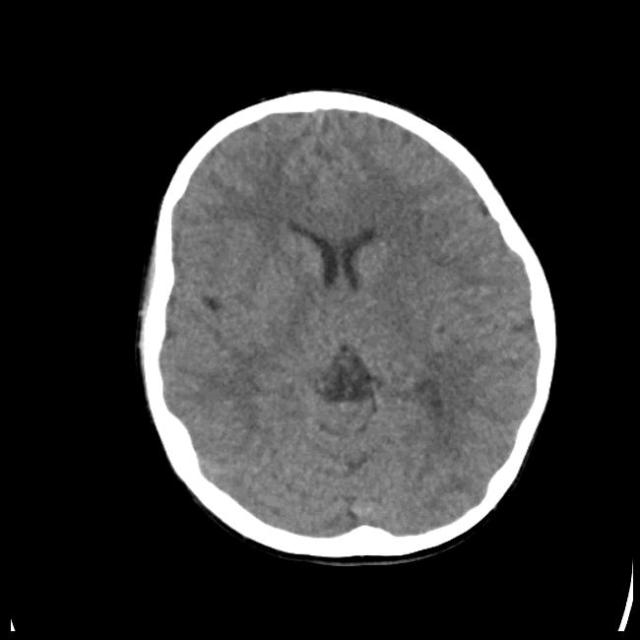lesion: (136, 89, 557, 560)
